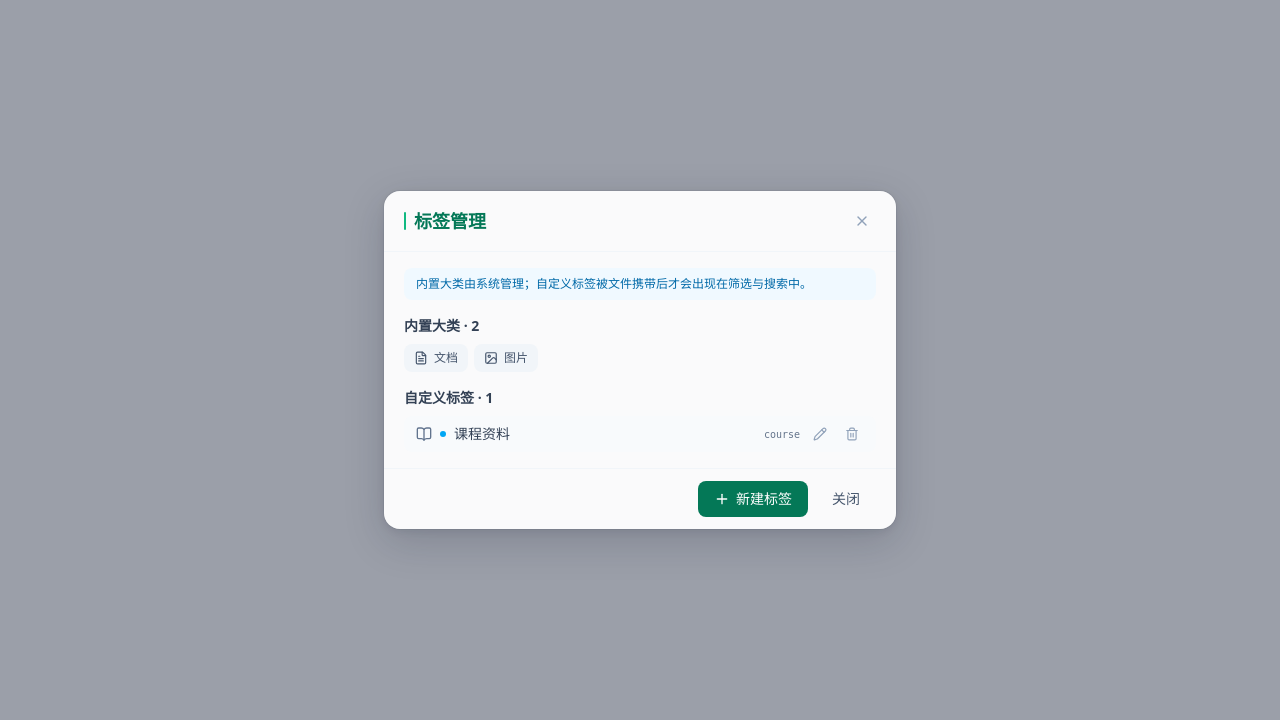
Test case: LabelManageDialog › 编辑标签：key 只读，保存后更新列表
Click the button named "编辑标签".
click(820, 434)  # box [808,422,832,446]
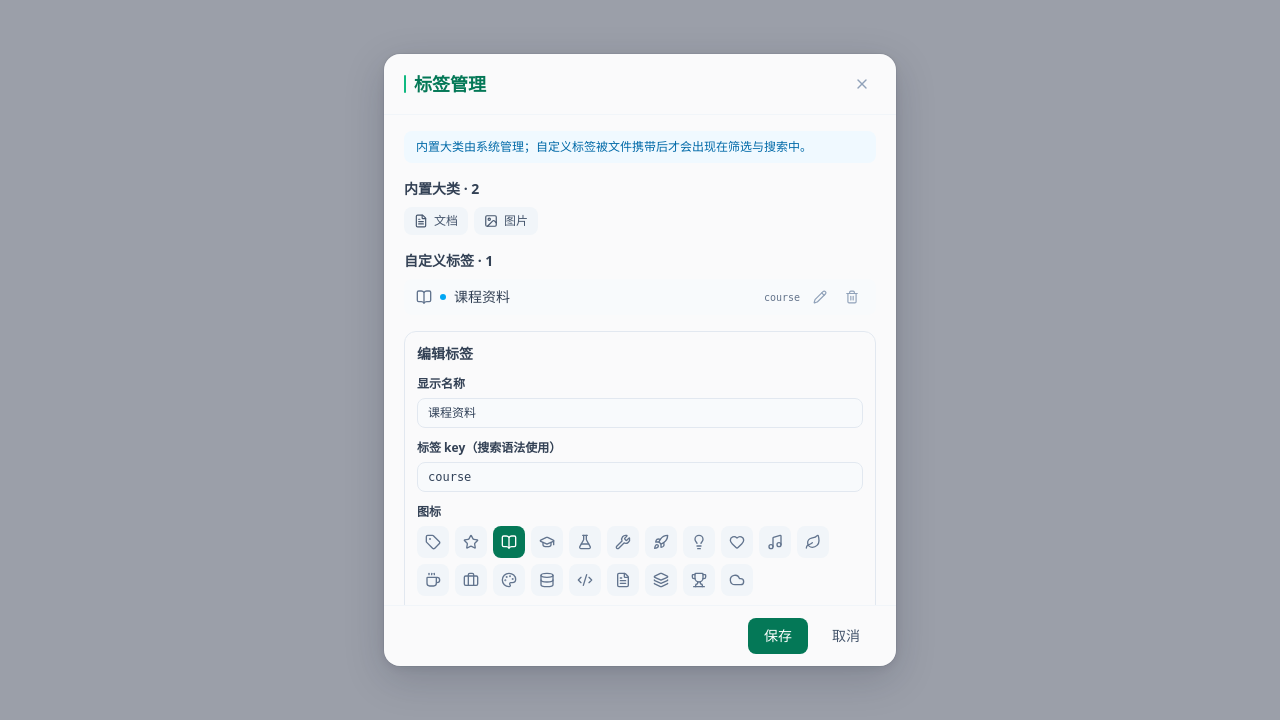
expect the field with placeholder "如：course" below "标签 key（搜索语法使用）" is disabled: met, box [417,462,863,492]
Replace the text in the field with placeholder "如：课程资料" below "显示名称" with "课程资料（改）" at (640, 413), box [417,398,863,428]
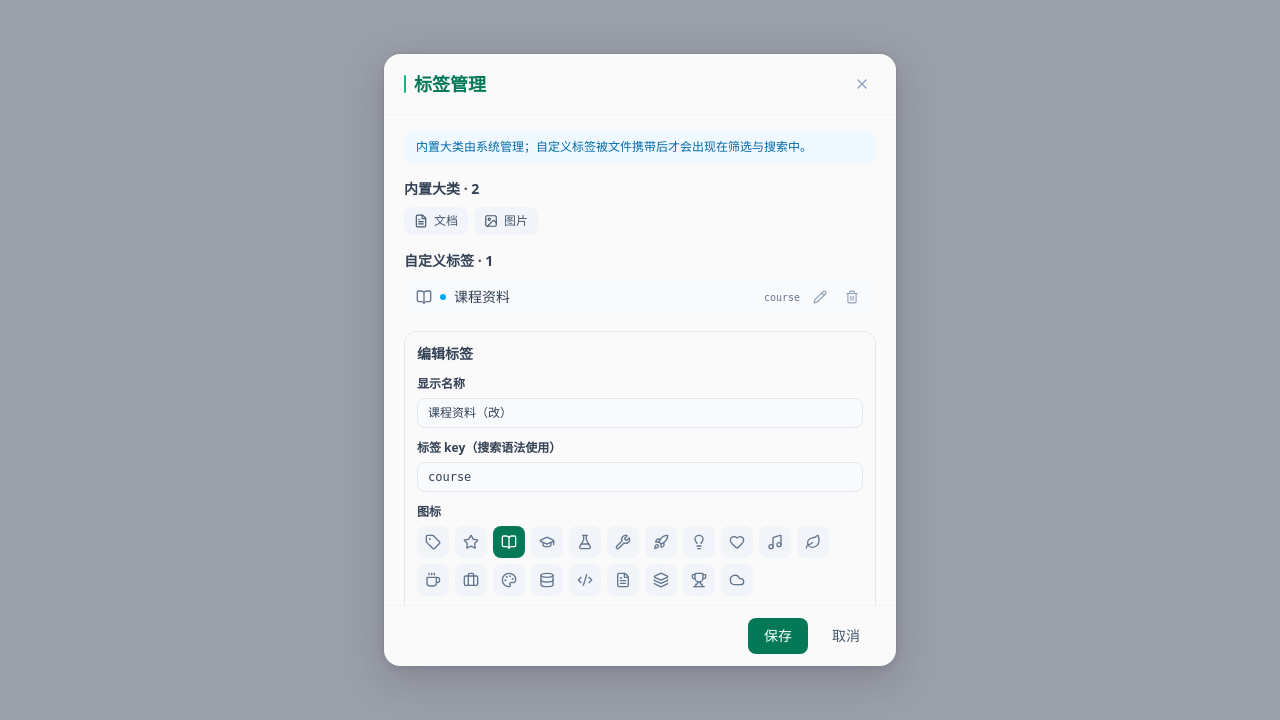
Click the button "保存".
click(778, 636)  # box [748,618,808,654]
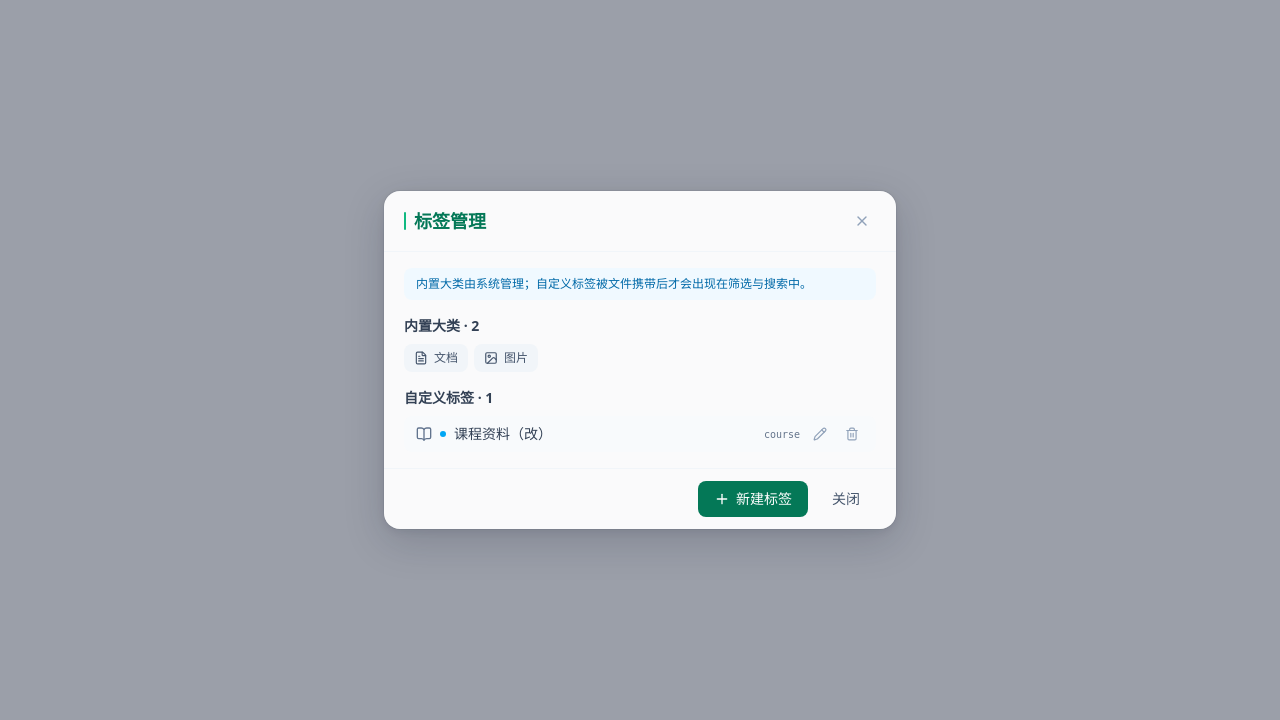
expect the text "课程资料（改）" is shown: met, box [454,424,552,443]
